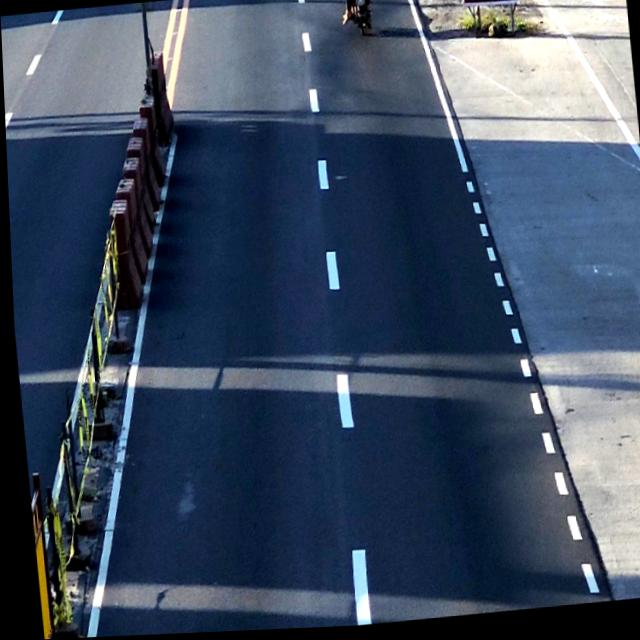Motorcycle: (344, 0, 376, 41)
